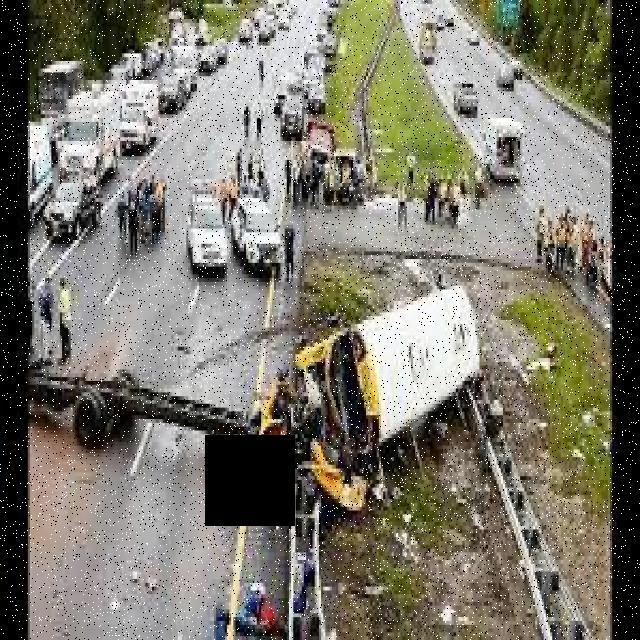severe: (244, 274, 490, 518)
